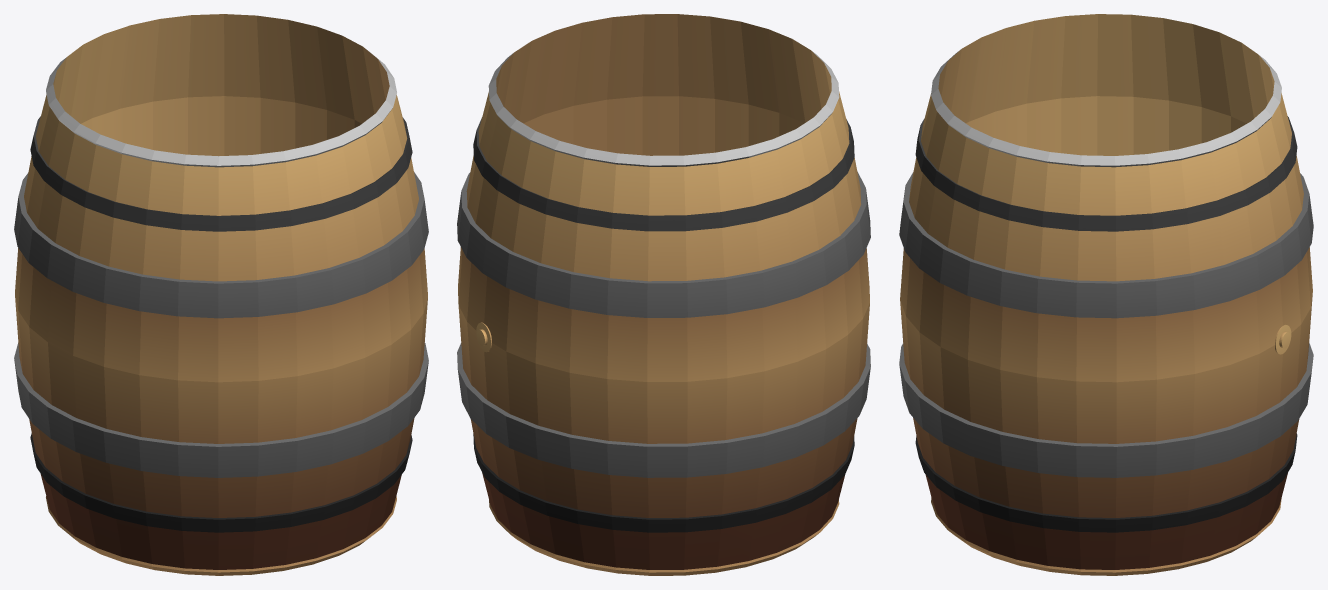
The model's file is Large Light Open Barrel.fbx.
The picture shows the model from 3 angles, left to right: view 1: azimuth 30°, elevation 25°; view 2: azimuth 150°, elevation 25°; view 3: azimuth 270°, elevation 25°; orthographic projection.
Visible parts, largest first — view 1: Large Light Open Barrel; view 2: Large Light Open Barrel; view 3: Large Light Open Barrel.
Part boxes in pixels (x1,y1,x2,y2): Large Light Open Barrel: (14, 14, 428, 575); Large Light Open Barrel: (457, 14, 870, 575); Large Light Open Barrel: (899, 14, 1313, 575).
Size of the model in its own units: 423 by 378 by 378.
1 material, 1 textured.
